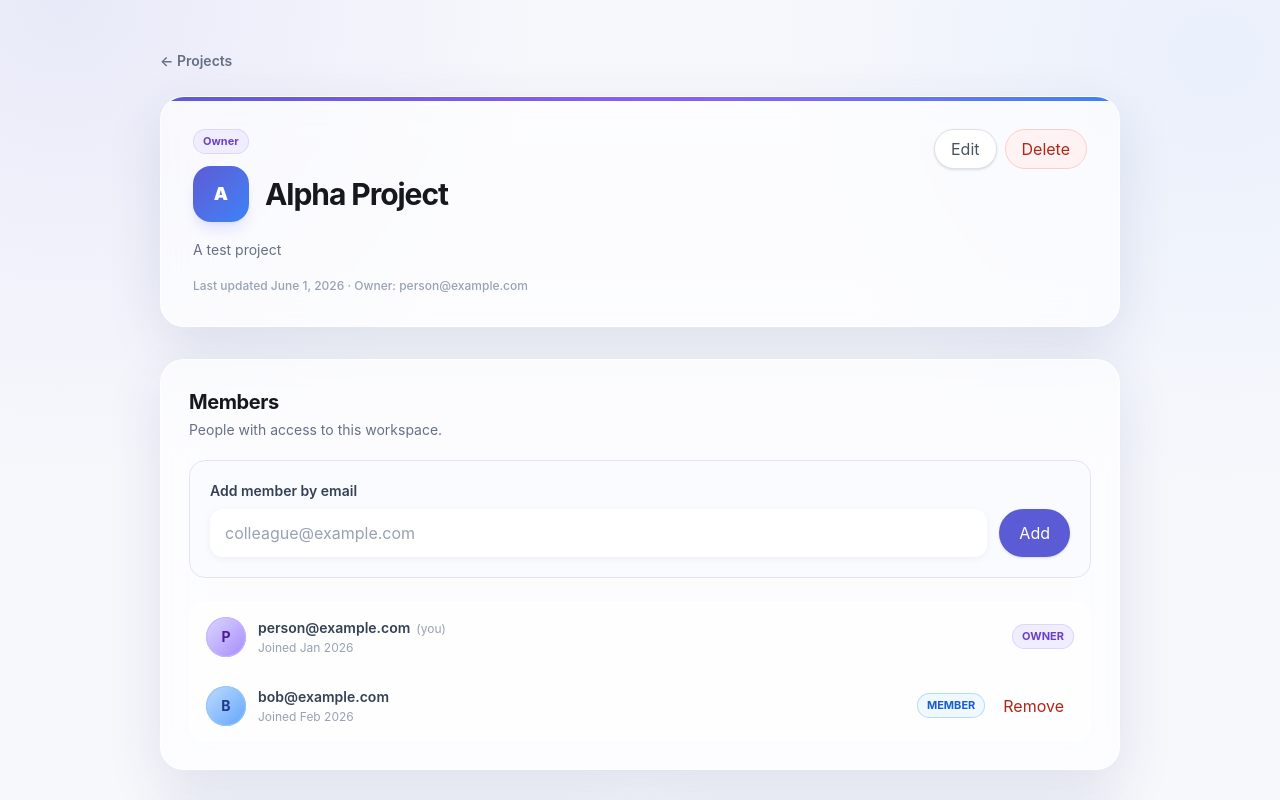
Test: ProjectDetailPage › opens delete dialog on Delete button click
The image size is (1280, 800).
Click the button "Delete". click: (1046, 149)
box: [1004, 129, 1087, 169]
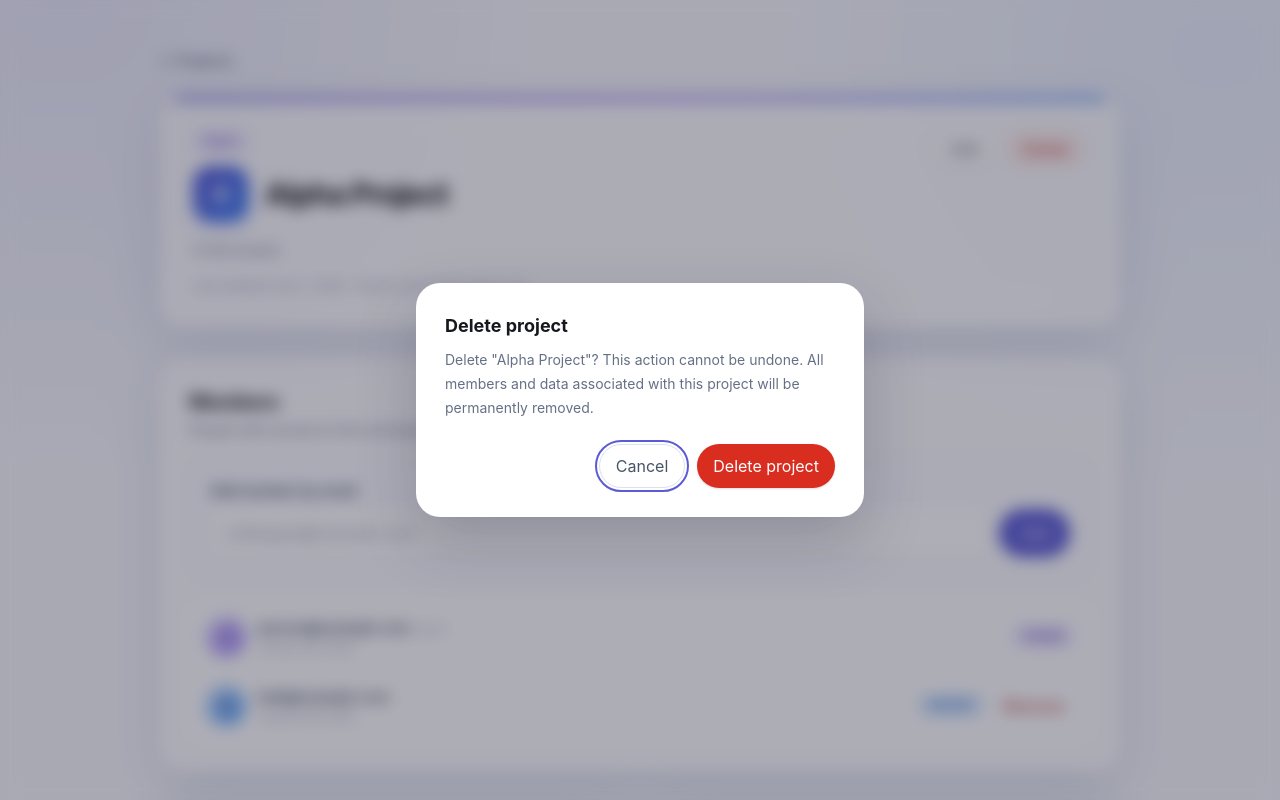
Check: the dialog is shown
Check: the text "This action cannot be undone" is shown, box [445, 351, 824, 416]
